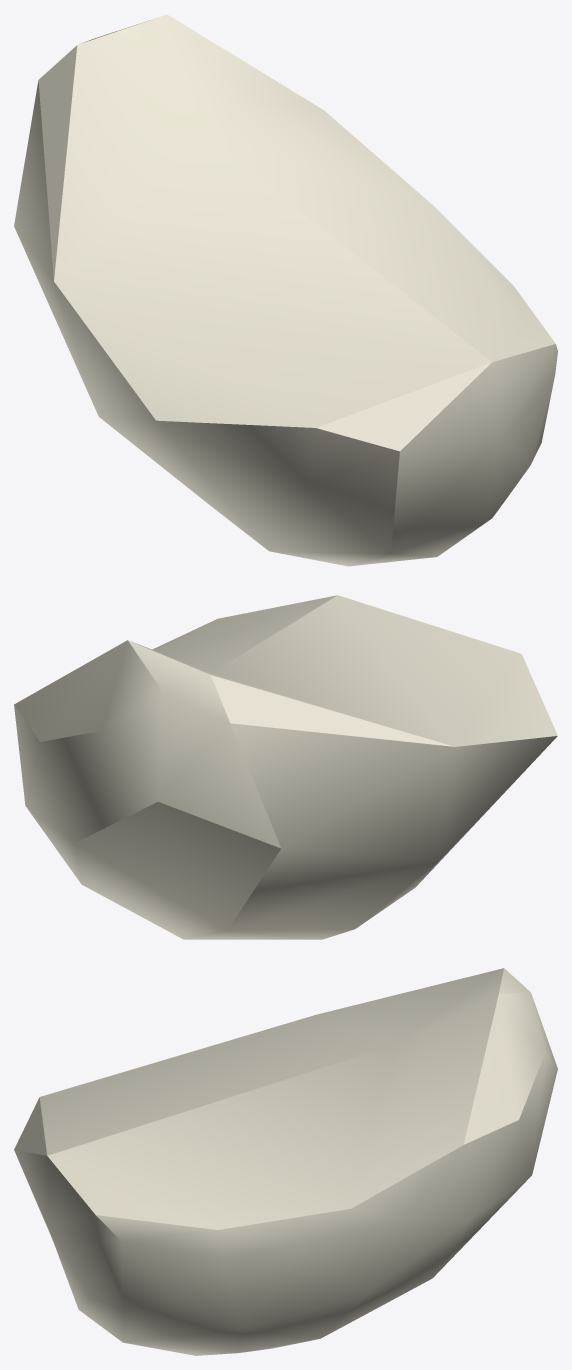
The model's file is fma45098_fj3266.glb.
3 renders of one model, top to bottom at view 1: azimuth 30°, elevation 25°; view 2: azimuth 150°, elevation 25°; view 3: azimuth 270°, elevation 25°, orthographic. The views are drawn at different scales.
Visible parts, largest first — view 1: FMA45098_FJ3266; view 2: FMA45098_FJ3266; view 3: FMA45098_FJ3266.
Part boxes in pixels (x1,y1,x2,y2): FMA45098_FJ3266: (14,14,557,566); FMA45098_FJ3266: (14,595,557,939); FMA45098_FJ3266: (14,968,557,1355).
Bounding box in the file's own units: 0.00678 × 0.00642 × 0.00922.
